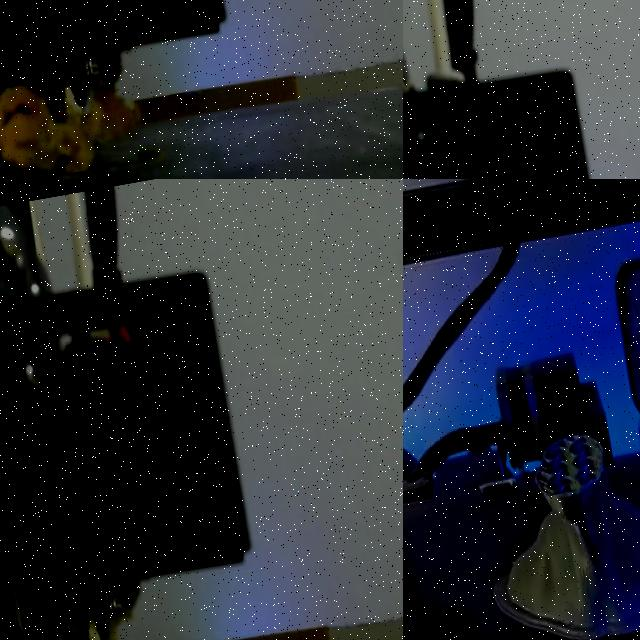spaghetti: (0, 72, 137, 173), (85, 612, 128, 638)
